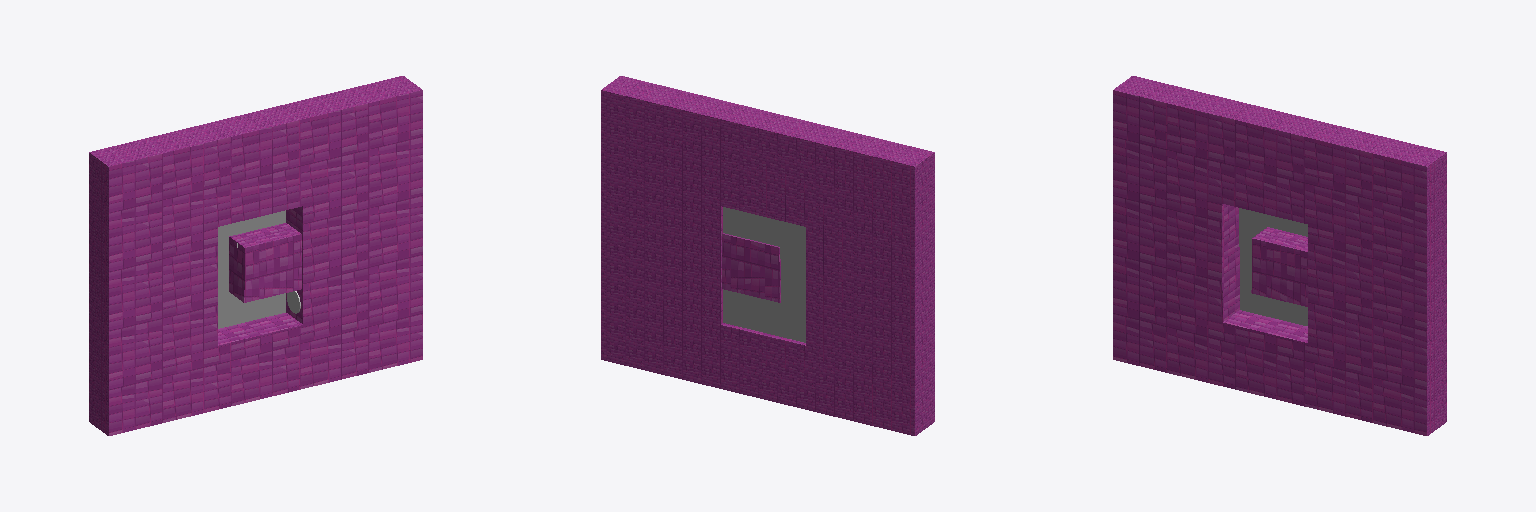
3 renders of one model, left to right at view 1: azimuth 30°, elevation 25°; view 2: azimuth 150°, elevation 25°; view 3: azimuth 330°, elevation 25°, orthographic.
Visible parts, largest first — view 1: Cube, Cube.002_Cube.003, Plane; view 2: Cube, Plane, Cube.002_Cube.003; view 3: Cube, Cube.002_Cube.003, Plane.
Boxes of the visible parts, x1=… form: Cube: x1=89, y1=76, x2=422, y2=435; Cube.002_Cube.003: x1=229, y1=223, x2=301, y2=302; Plane: x1=218, y1=210, x2=285, y2=328; Cube: x1=601, y1=76, x2=934, y2=435; Plane: x1=723, y1=207, x2=805, y2=342; Cube.002_Cube.003: x1=722, y1=233, x2=780, y2=302; Cube: x1=1113, y1=76, x2=1446, y2=435; Cube.002_Cube.003: x1=1251, y1=227, x2=1307, y2=306; Plane: x1=1239, y1=208, x2=1307, y2=325.
Bounding box in the file's own units: 33.12 × 27.16 × 3.61.
3 materials, 1 textured.